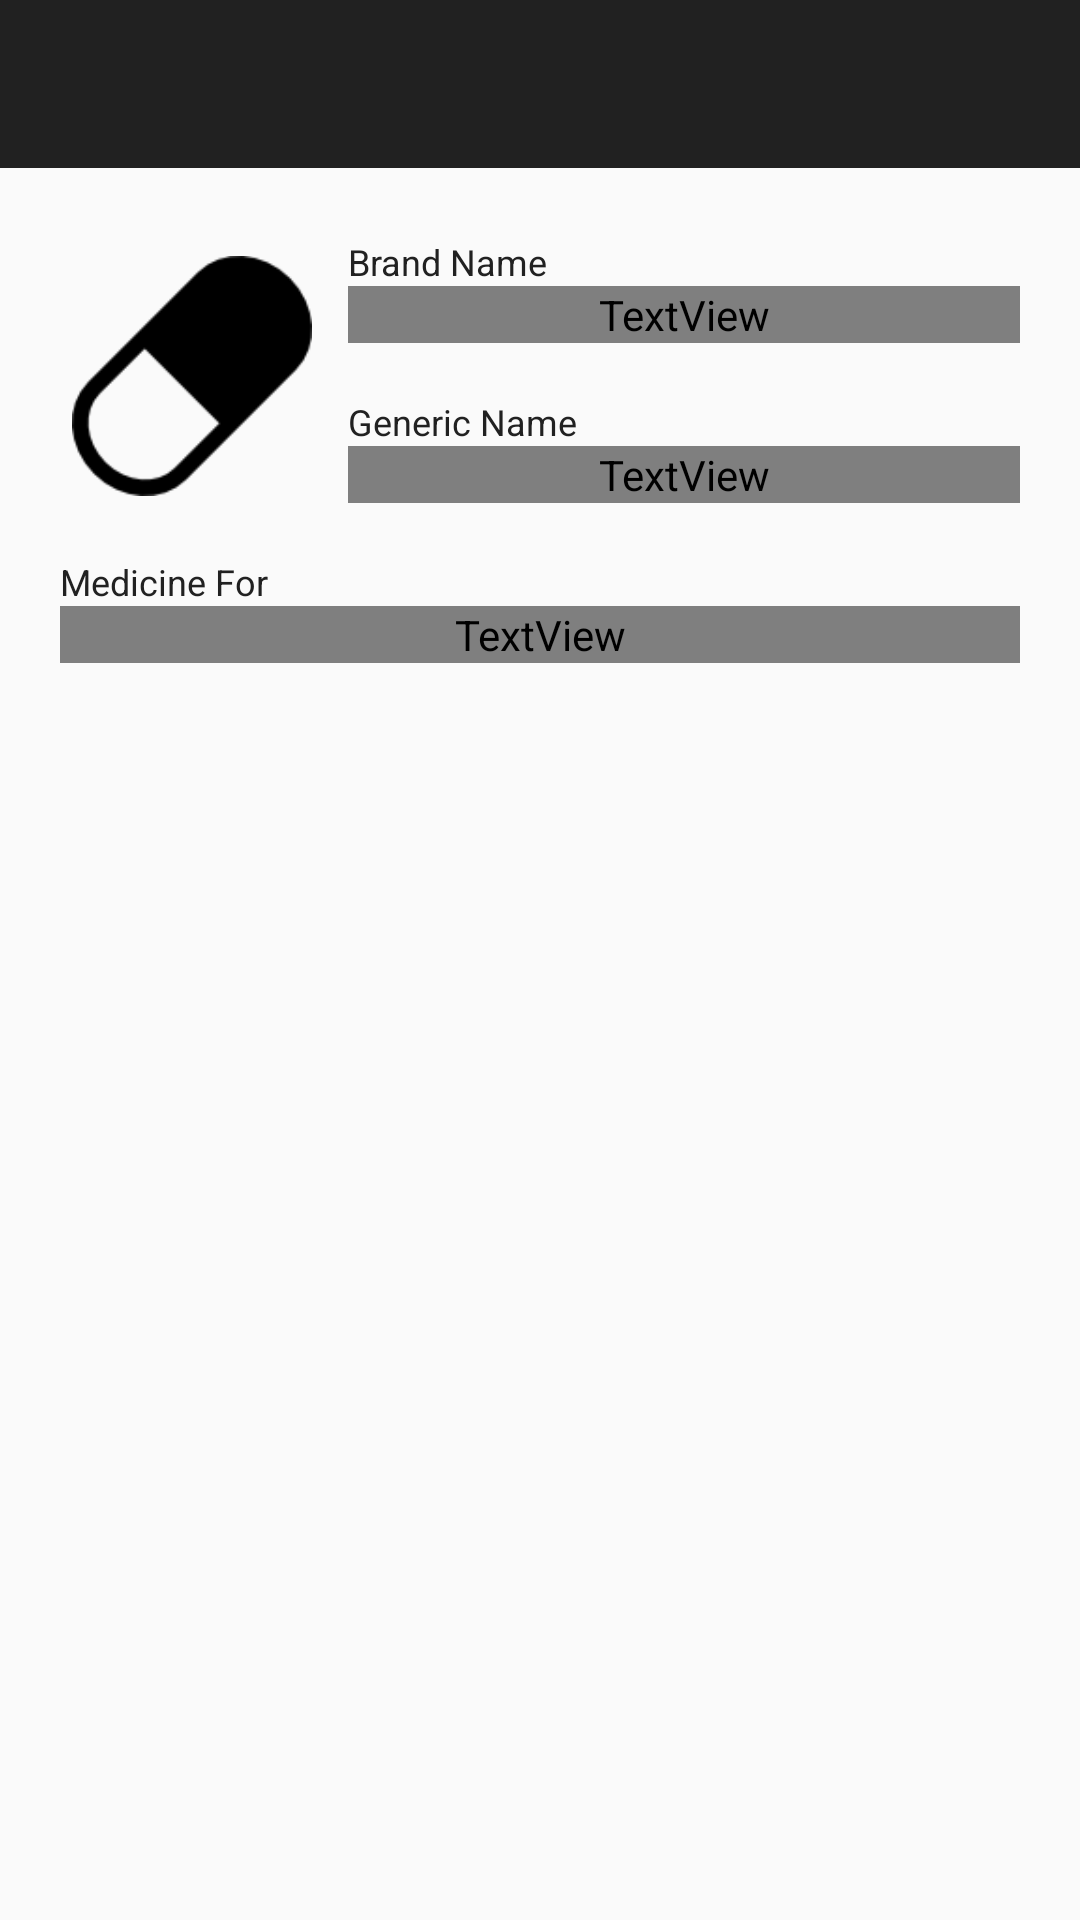

Locate icon controls on the screen. Image size 1080x1920, boxes as (x1, y1, x2, y2).
pill capsule: (72, 256, 312, 496)
